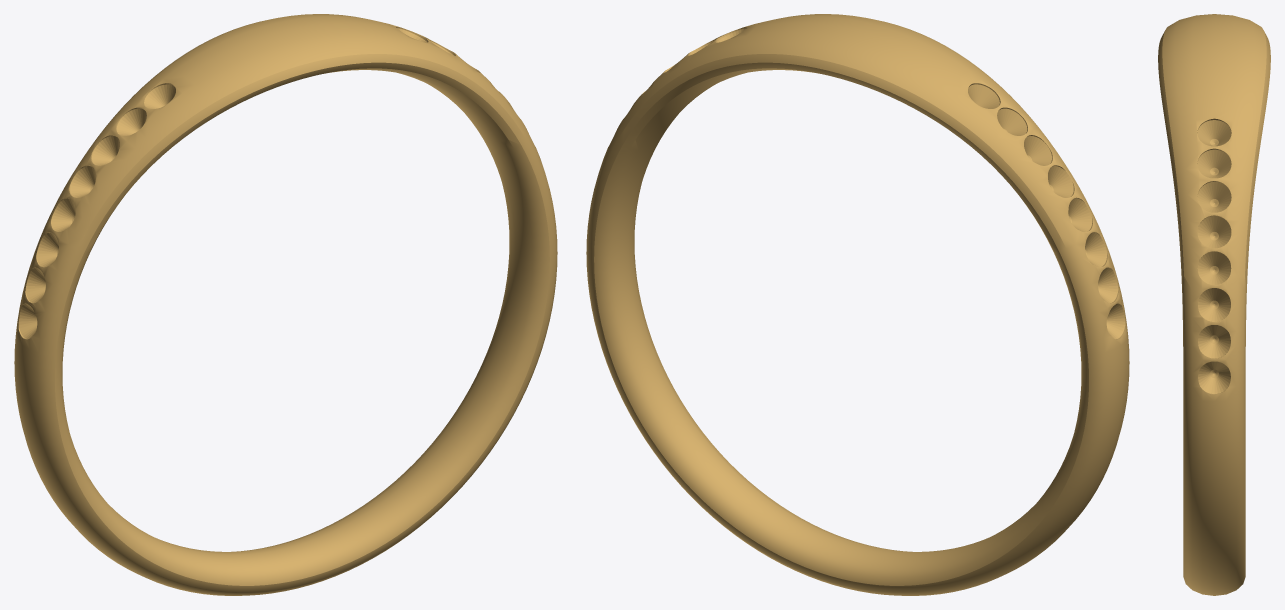
The model's file is reverse-tapered-micro-pave.glb.
3 views of the same model, side by side, from view 1: azimuth 30°, elevation 25°; view 2: azimuth 150°, elevation 25°; view 3: azimuth 270°, elevation 25° (orthographic). The views are drawn at different scales.
Visible parts, largest first — view 1: Band; view 2: Band; view 3: Band.
Part boxes in pixels (x1,y1,x2,y2): Band: (14,14,557,595); Band: (586,14,1129,595); Band: (1158,14,1270,595).
Size of the model in its own units: 19.6 by 19.6 by 3.8.
